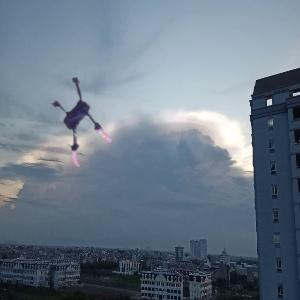drone: (39, 77, 130, 168)
